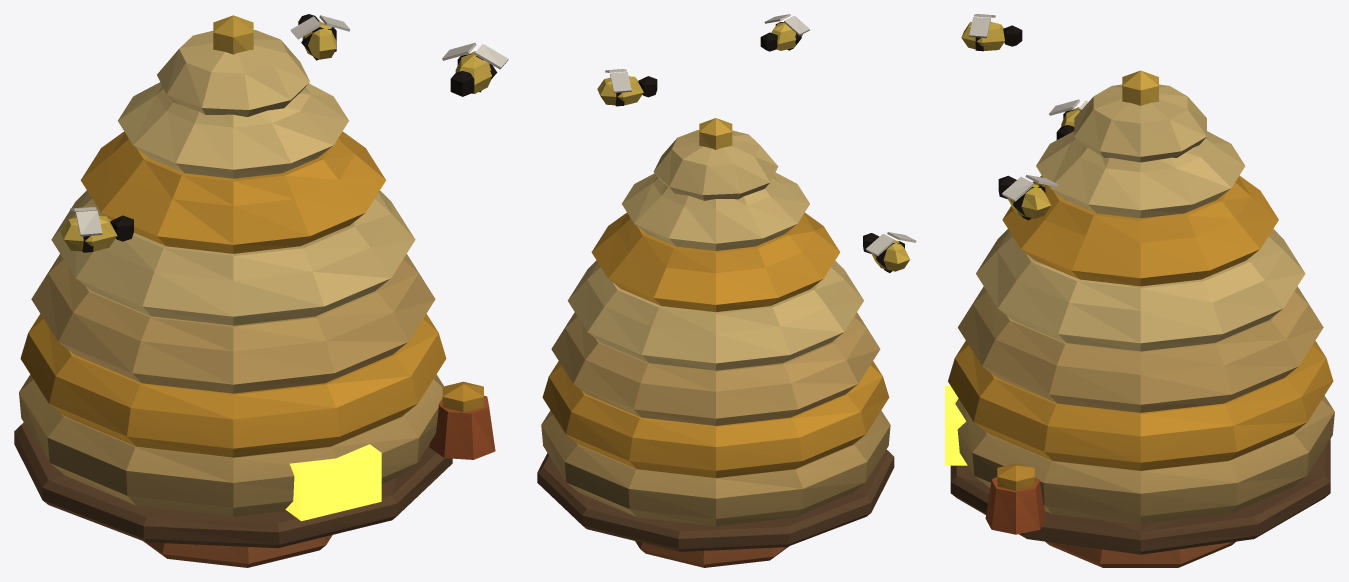
The model's file is great_hum.glb.
3 views of the same model, side by side, from view 1: azimuth 30°, elevation 25°; view 2: azimuth 150°, elevation 25°; view 3: azimuth 270°, elevation 25° (orthographic). The views are drawn at different scales.
Visible parts, largest first — view 1: great_hum; view 2: great_hum; view 3: great_hum.
Boxes of the visible parts, x1=… form: great_hum: x1=14, y1=14, x2=508, y2=567; great_hum: x1=537, y1=14, x2=916, y2=567; great_hum: x1=945, y1=14, x2=1334, y2=567.
Size of the model in its own units: 0.687 by 0.9075 by 0.625.
